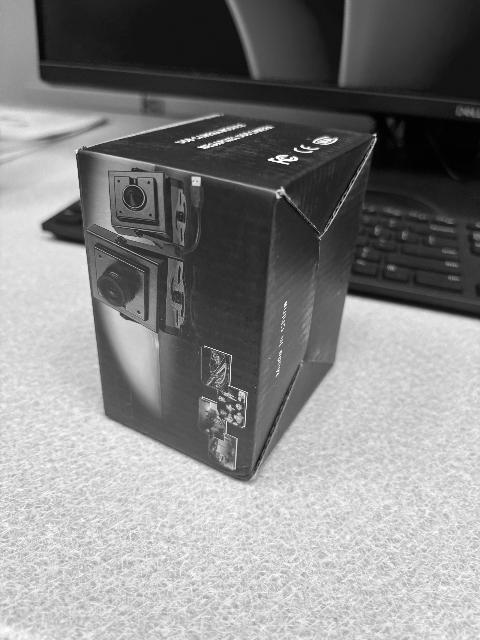CameraBox2: (76, 117, 374, 483)
